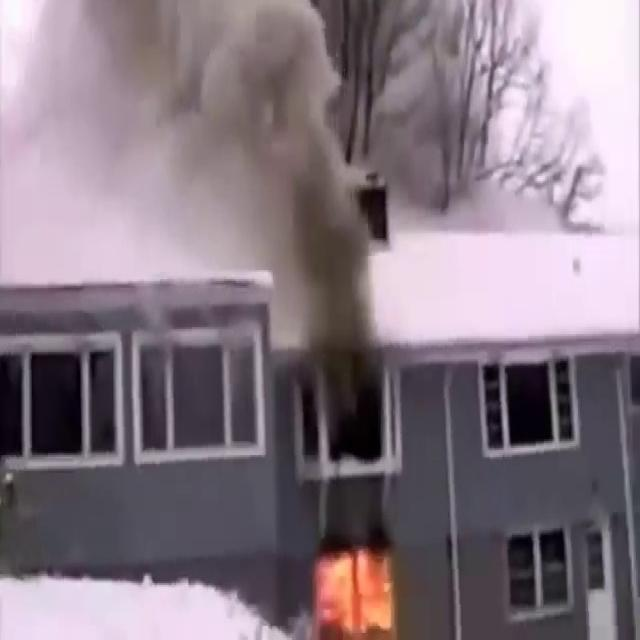Fire: (306, 532, 410, 636)
Smoke: (0, 0, 384, 283), (362, 0, 504, 235)
